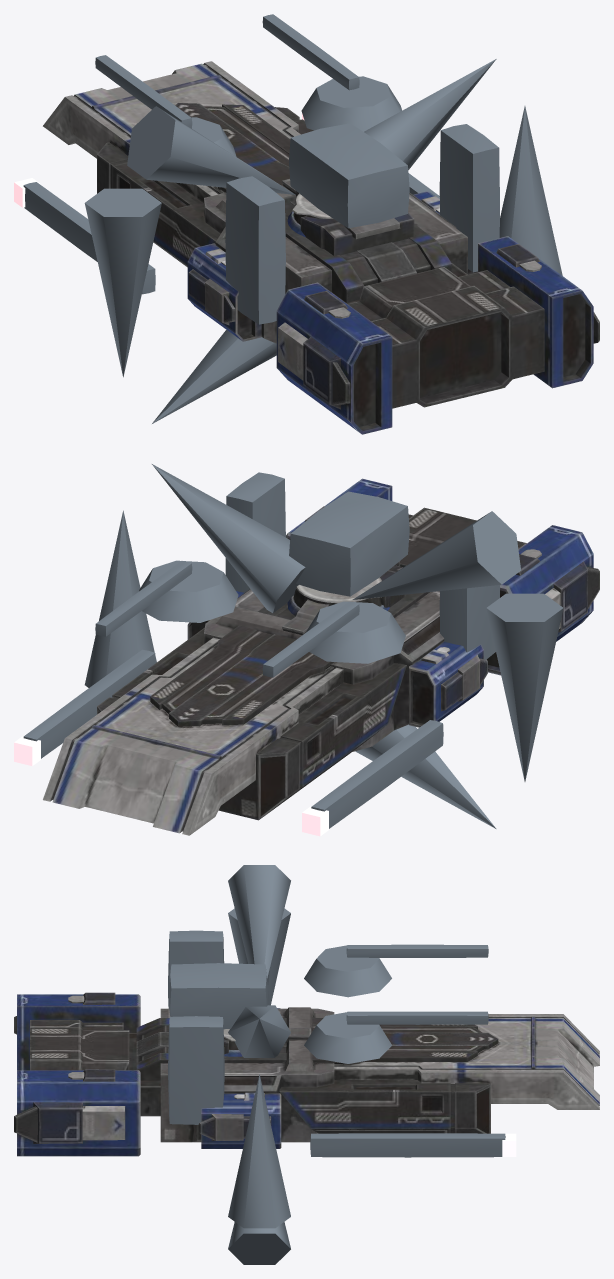
File: enemy_kraken.glb
The picture shows the model from 3 angles, top to bottom: view 1: azimuth 30°, elevation 25°; view 2: azimuth 150°, elevation 25°; view 3: azimuth 270°, elevation 25°; orthographic projection. The views are drawn at different scales.
Parts seen in each view (by area): view 1: enemy_kraken; view 2: enemy_kraken; view 3: enemy_kraken.
Boxes of the visible parts, <box> form: enemy_kraken: <box>14,14,599,434</box>; enemy_kraken: <box>14,464,599,836</box>; enemy_kraken: <box>14,865,599,1264</box>.
Bounding box in the file's own units: 1.37 × 0.9542 × 1.85.
3 materials, 1 textured.
